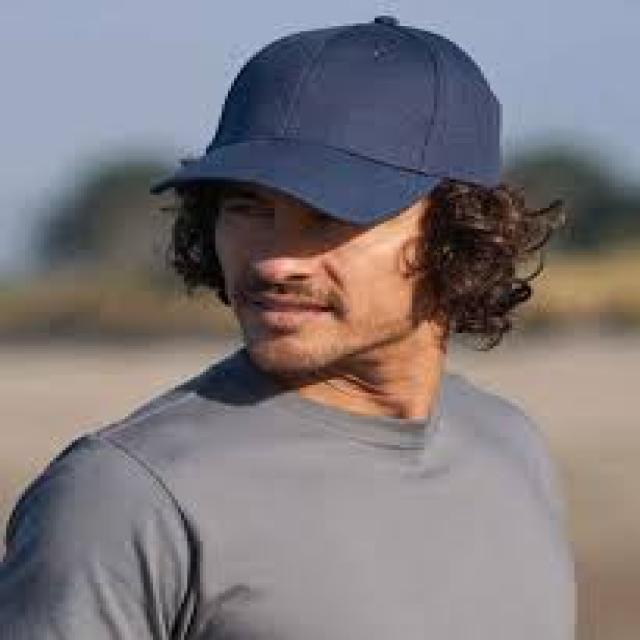cap: (139, 0, 543, 246)
